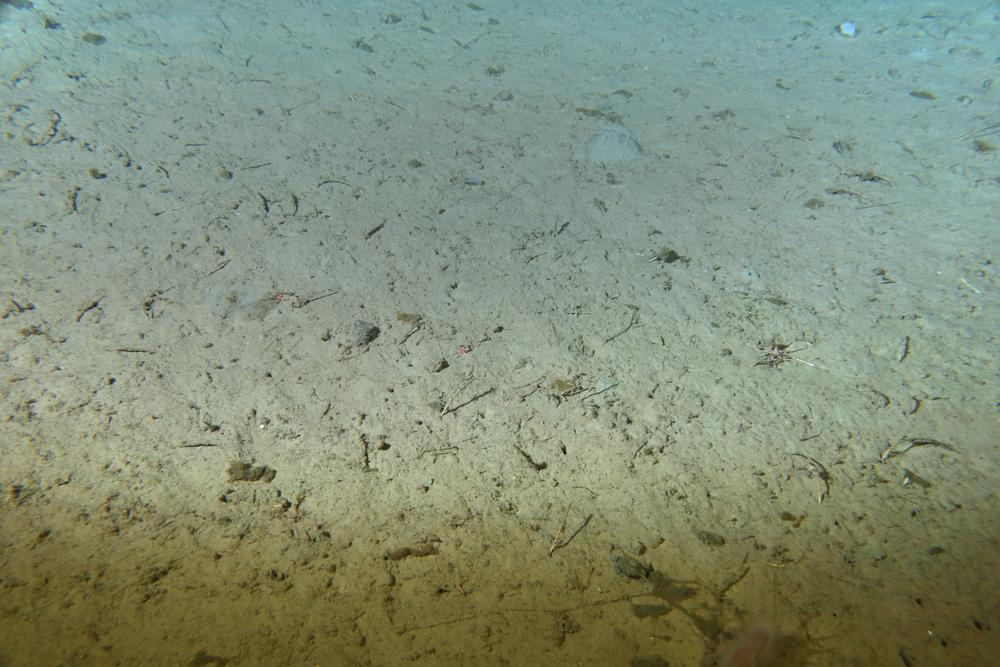Peniagone vitrea: (709, 594, 803, 667)
